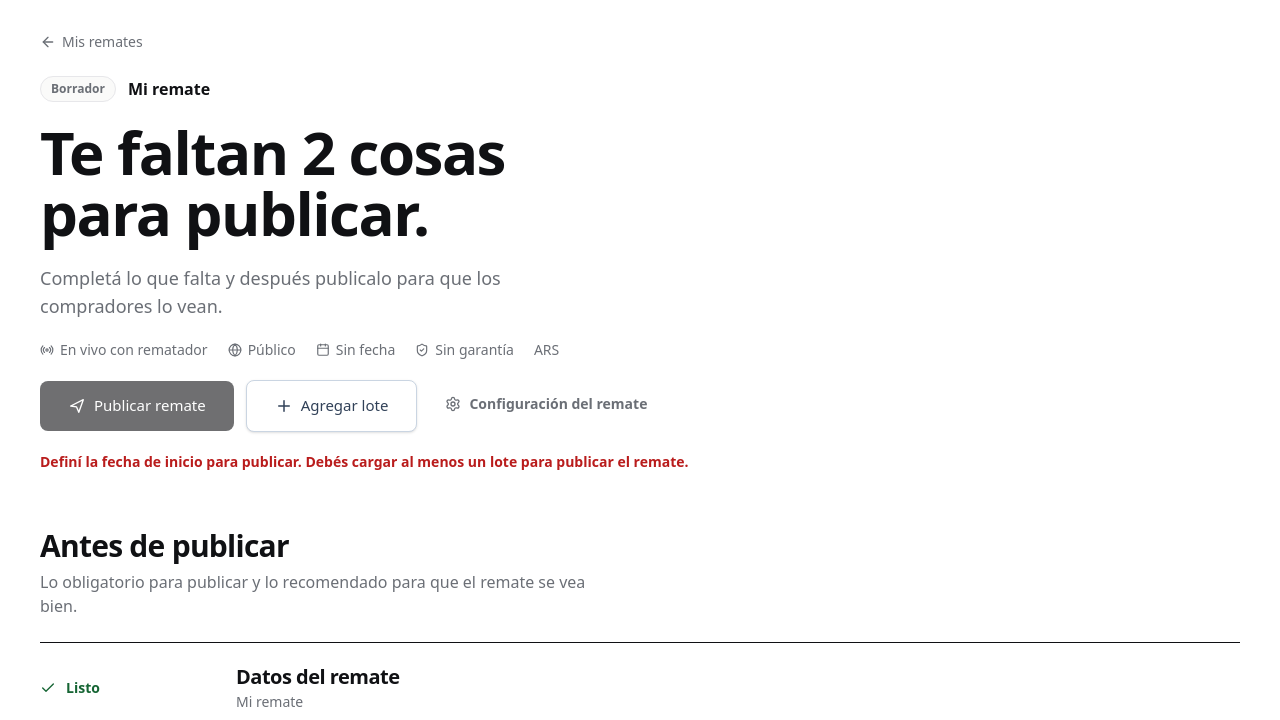
Test: LotesManagementPage › "Editar remate" desde "Configuración del remate" abre el modal con los datos del remate
The width and height of the screenshot is (1280, 720).
Step 1. Click the button "Configuración del remate" → (546, 406), box 429,386 -> 663,426
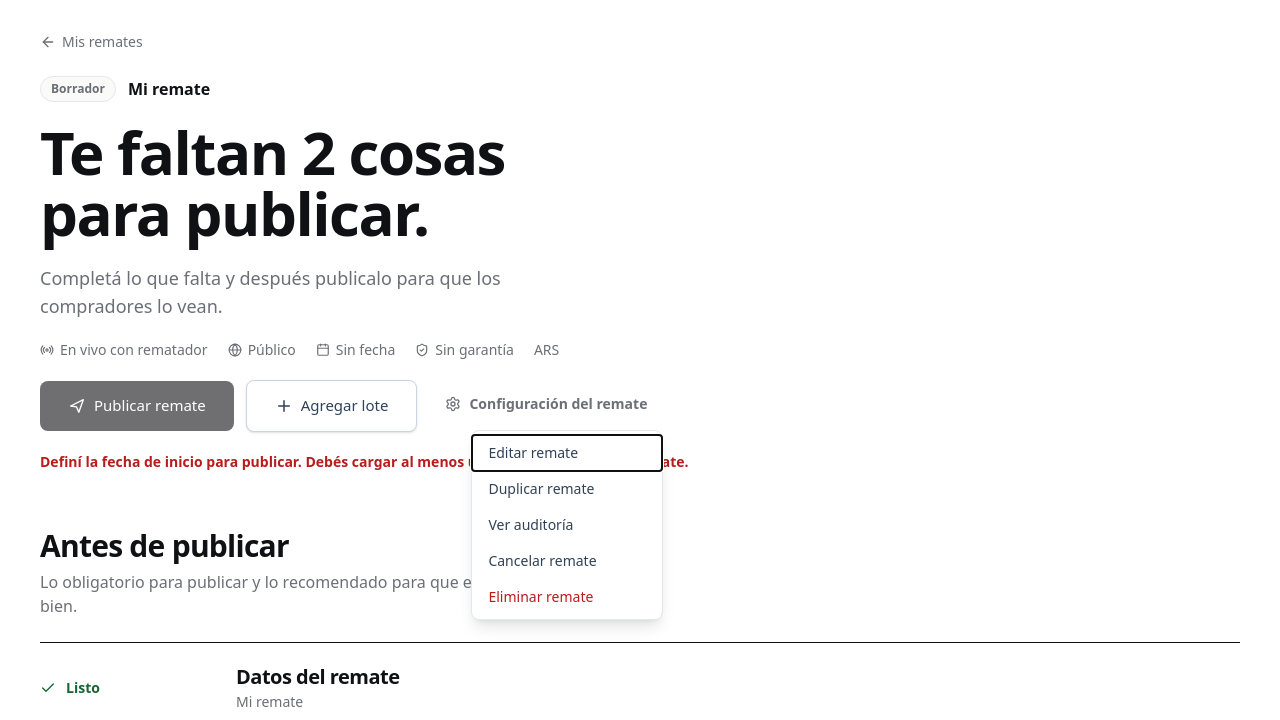
Step 2. Click the menu item "Editar remate" → (567, 453), box 472,435 -> 662,471
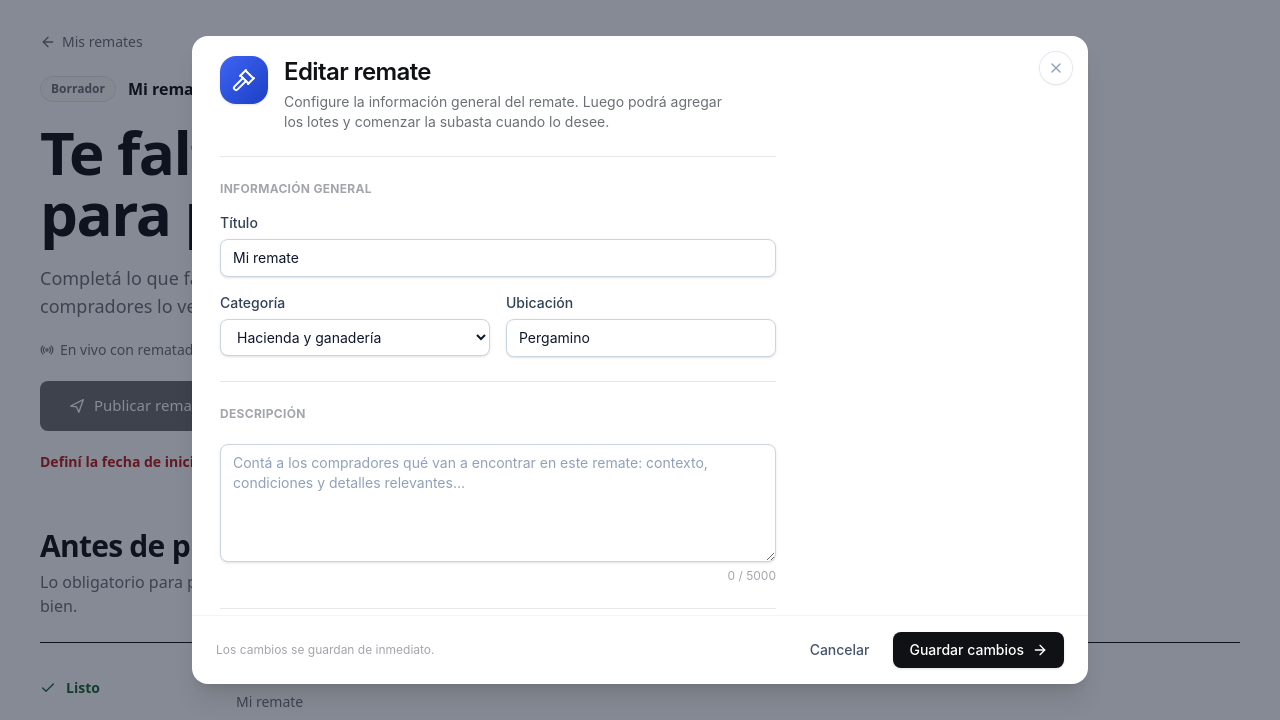
Expected: the heading "Editar remate" is shown, 284,57 -> 431,86
Expected: the field labelled "Título" holds "Mi remate", 220,239 -> 776,277
